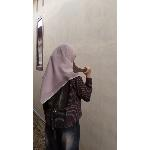Golok: (65, 58, 93, 74)
